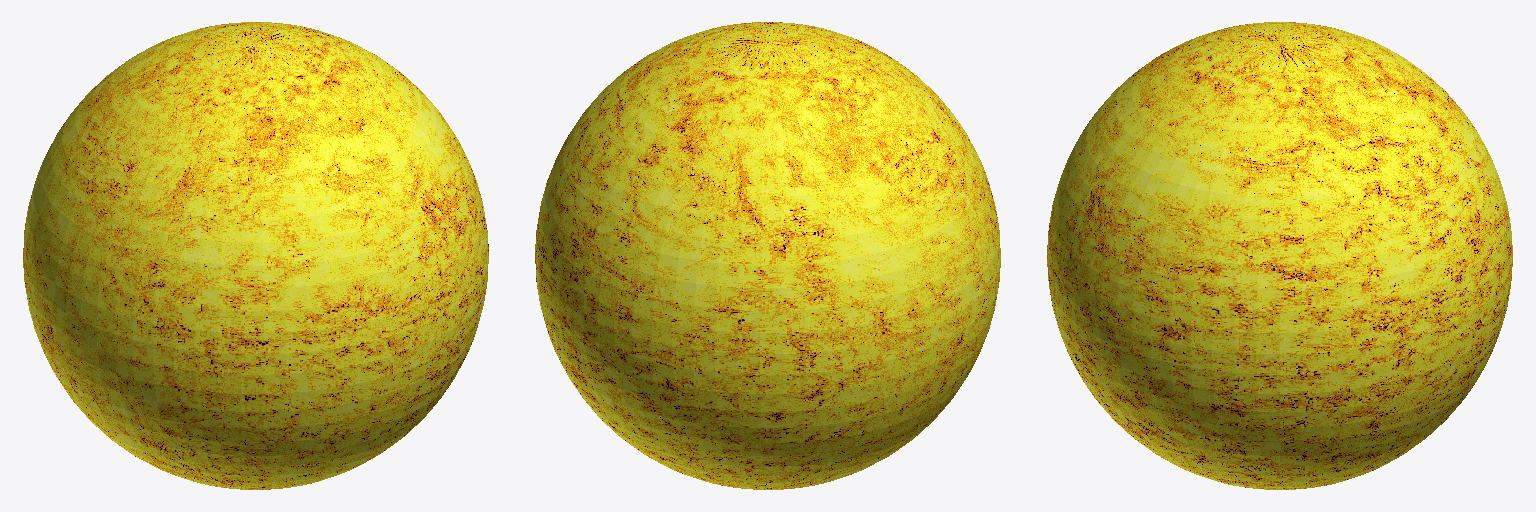
The picture shows the model from 3 angles: view 1: azimuth 30°, elevation 25°; view 2: azimuth 150°, elevation 25°; view 3: azimuth 270°, elevation 25°; orthographic projection.
Visible parts, largest first — view 1: Sphere; view 2: Sphere; view 3: Sphere.
Part boxes in pixels (bbox=[...]): Sphere: bbox=[23, 22, 488, 489]; Sphere: bbox=[535, 22, 1000, 489]; Sphere: bbox=[1047, 22, 1512, 489].
Bounding box in the file's own units: 1.97 × 2 × 1.97.
Materials: 1 (1 with a texture image).